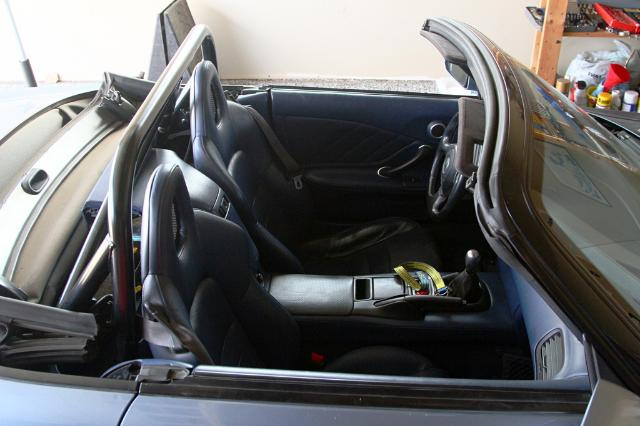Seatbelt: (246, 107, 294, 177)
